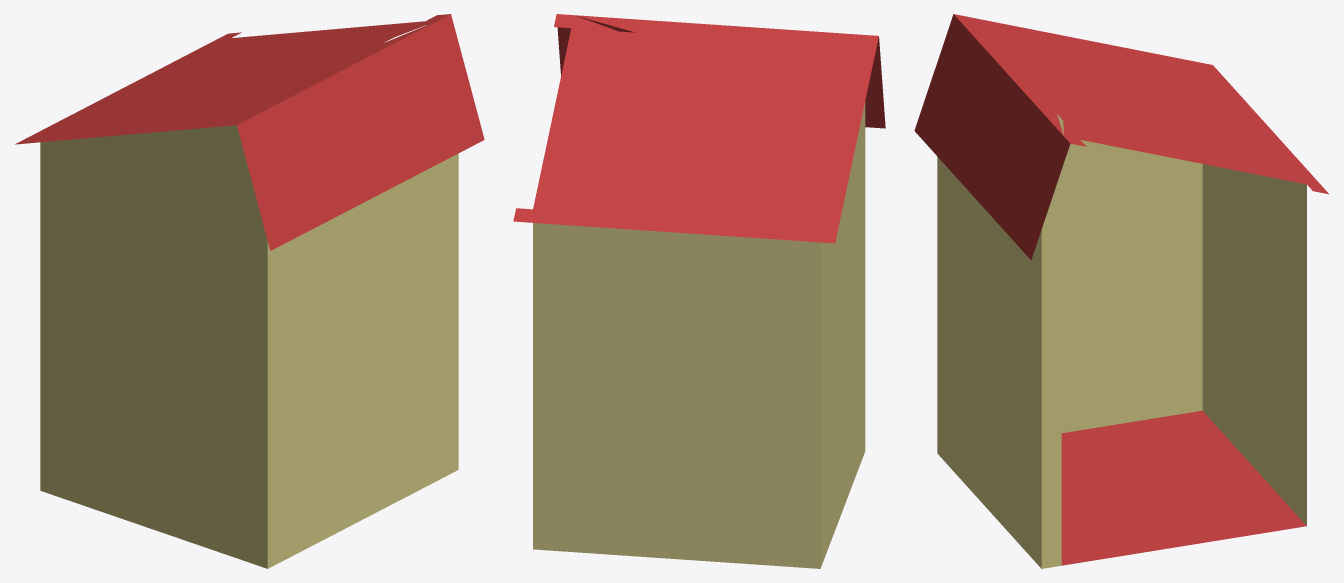
3 views of the same model, side by side, from view 1: azimuth 30°, elevation 25°; view 2: azimuth 150°, elevation 25°; view 3: azimuth 270°, elevation 25° (orthographic). The views are drawn at different scales.
Bounding box in the file's own units: 11.82 × 11.67 × 13.29.
